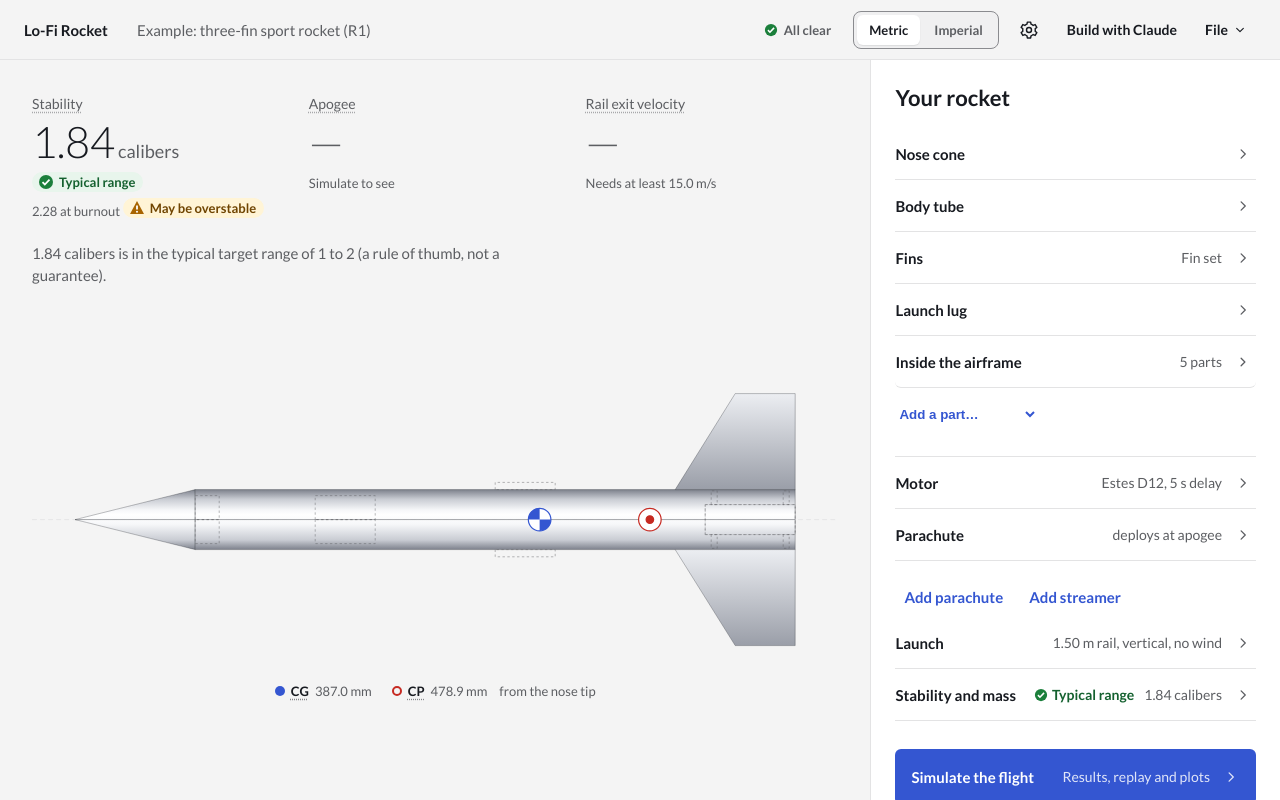
Test: MotorPanel (plan 0013) › a new motor keeps the delay it is sold with, or the nearest, and says so (issue #10)
The image size is (1280, 800).
Click the option "Motor Estes D12, 5 s delay": (917, 482) [895, 457, 1256, 509]
(page scrolled)
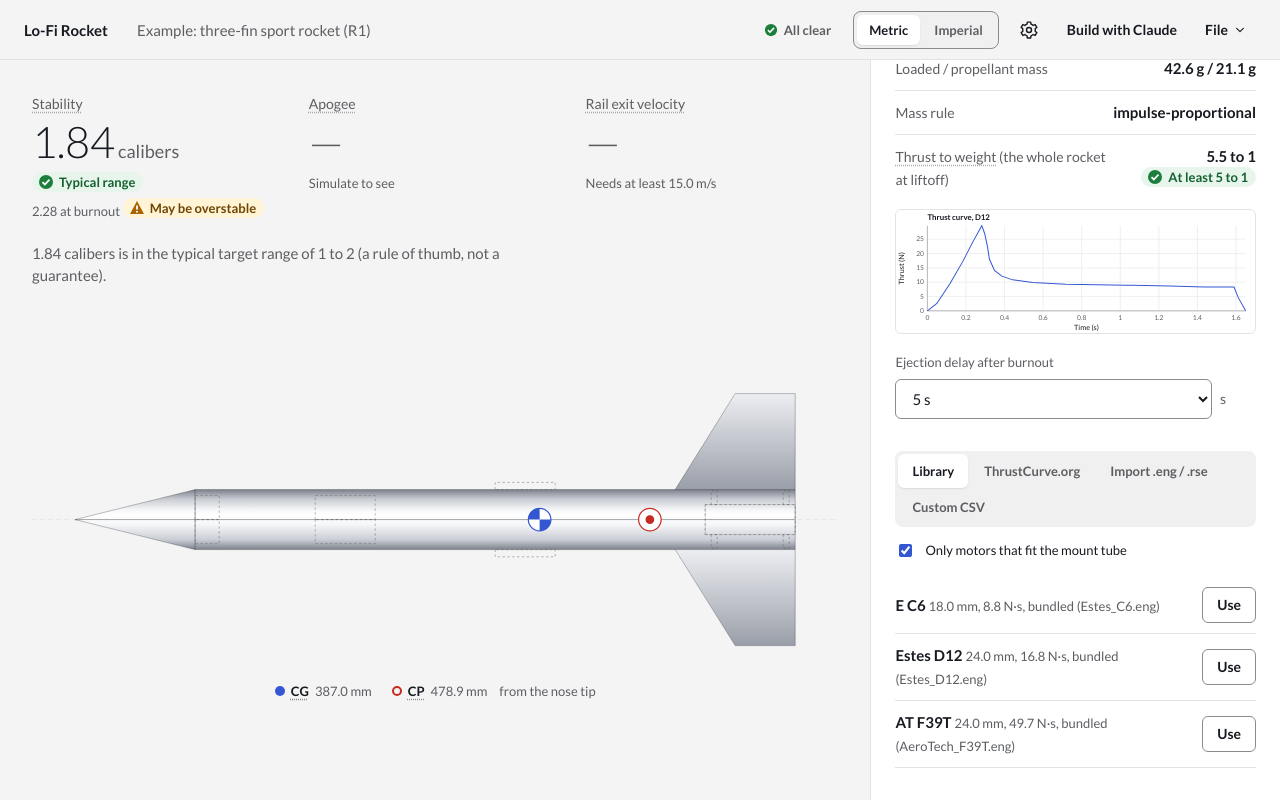
Result: the dropdown labelled "Ejection delay after burnout" shows "5 s" at [895, 379, 1212, 419]
Click the button with aria-label "Use AT F39T": (1229, 734) [1202, 716, 1256, 752]
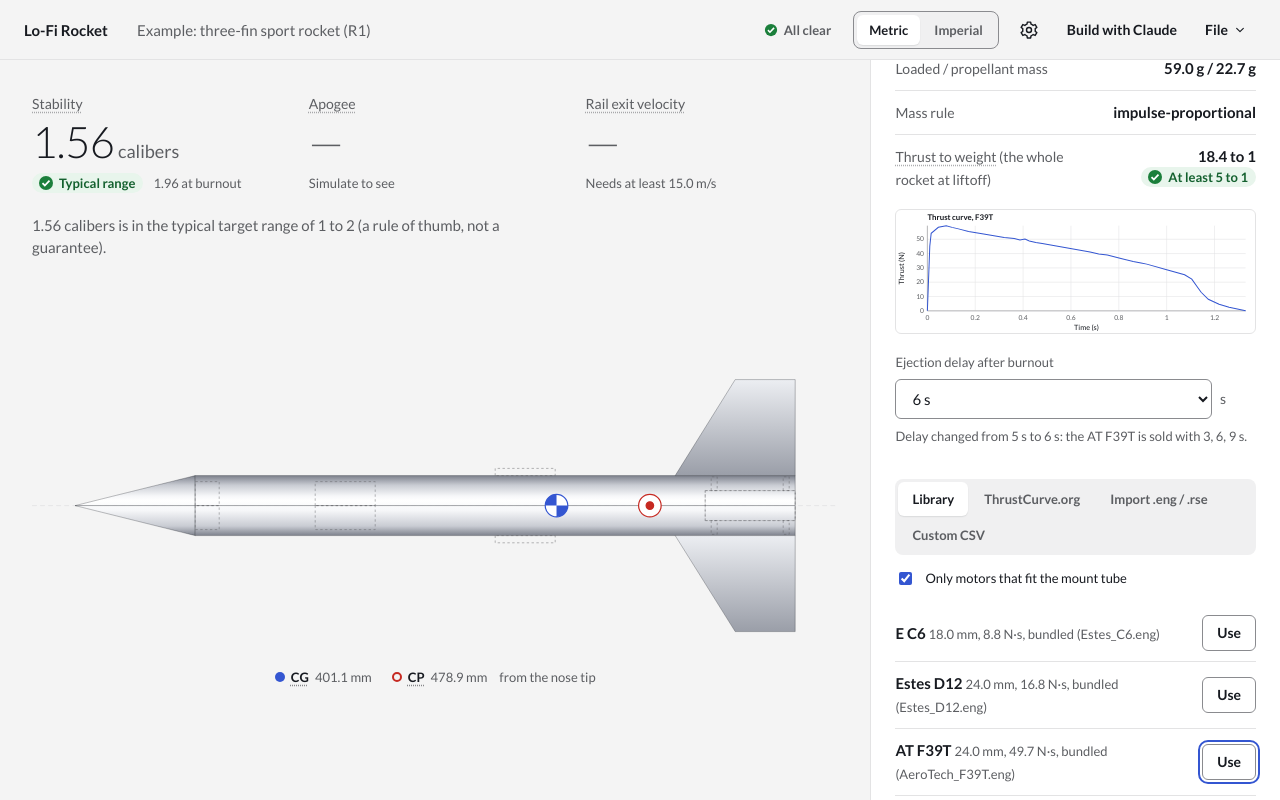
Result: the dropdown labelled "Ejection delay after burnout" shows "6 s" at [895, 379, 1212, 419]
Result: the message reads "Delay changed from 5 s to 6 s: the AT F39T is sold with 3, 6, 9 s." at [895, 428, 1247, 444]
Click the button with aria-label "Use E C6": (1229, 633) [1202, 615, 1256, 651]
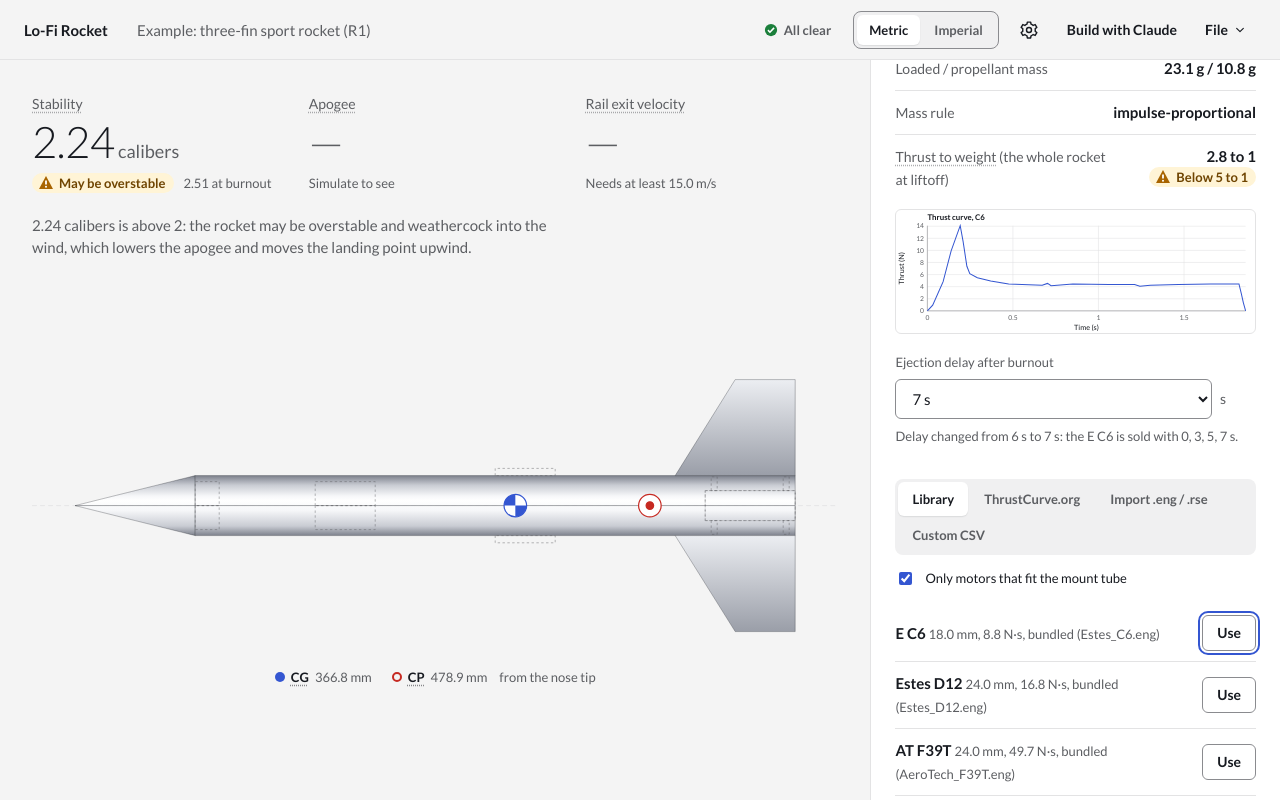
Result: the dropdown labelled "Ejection delay after burnout" shows "7 s"
Result: the message reads "Delay changed from 6 s to 7 s: the E C6 is sold with 0, 3, 5, 7 s." at [895, 428, 1238, 444]
Select "5 s" in the dropdown labelled "Ejection delay after burnout": (1054, 399) [895, 379, 1212, 419]
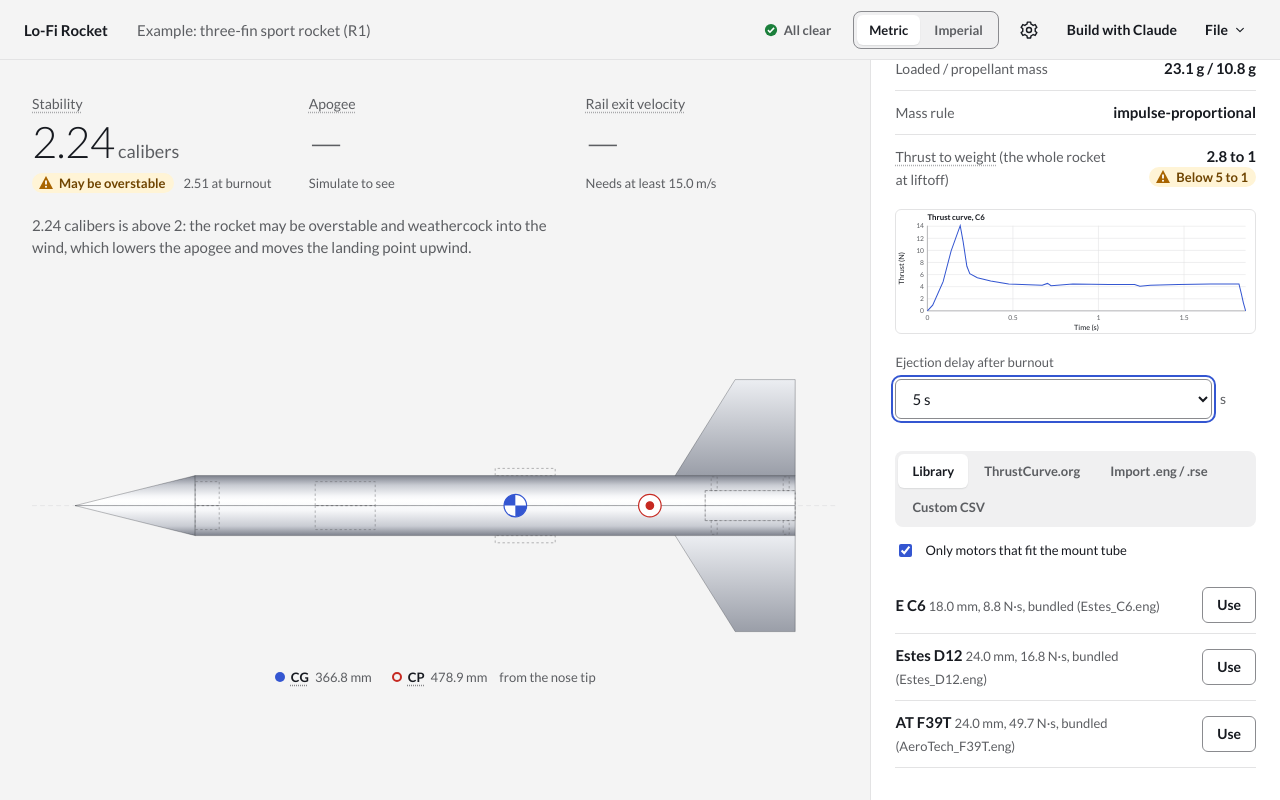
Result: the message "Delay changed from 6 s to 7 s: the E C6 is sold with 0, 3, 5, 7 s." is gone
